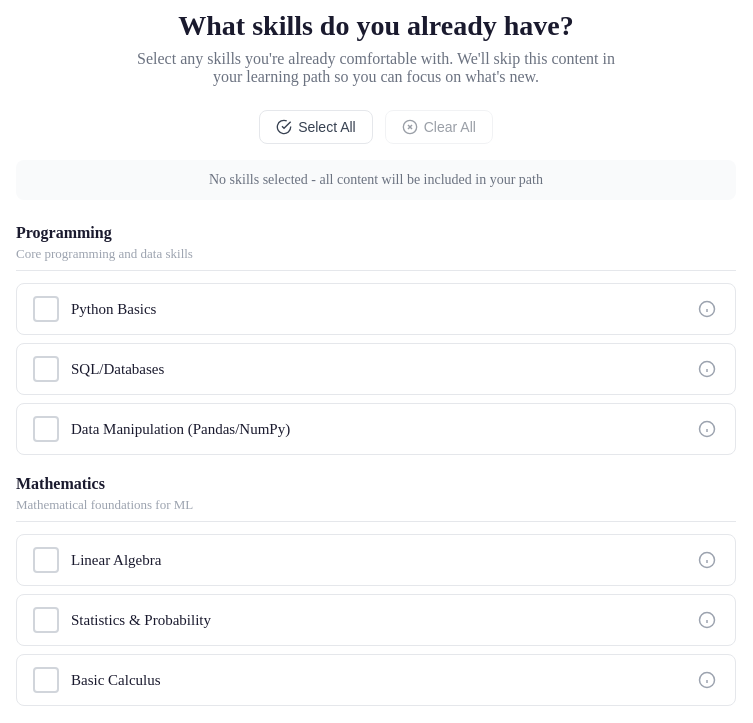
Test: Step4ExistingSkills › Select All selects all skills › should select all skills when Select All is clicked
Step 1. Click the button with test id "select-all-btn" → (316, 127), box [259, 110, 373, 144]
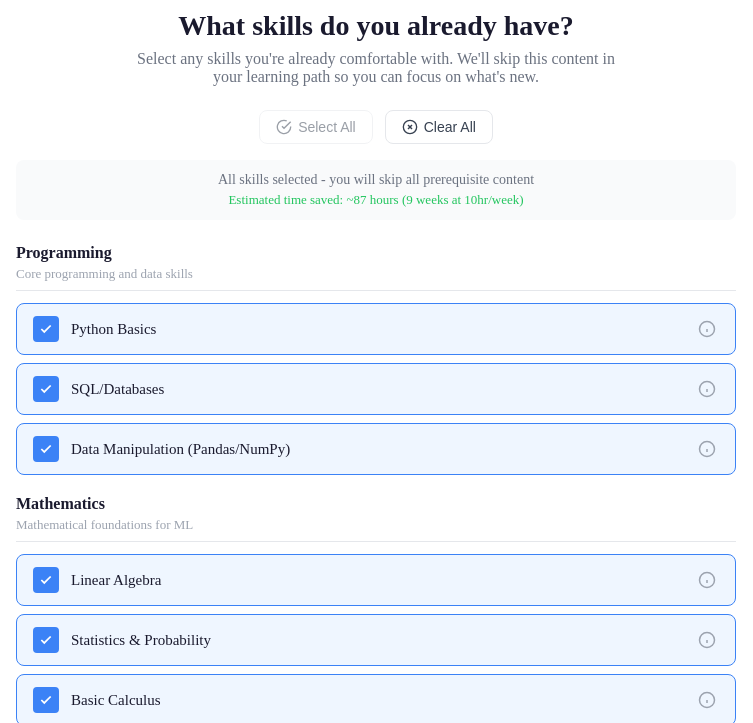
Result: the checkbox with test id "skill-checkbox-python-basics" is checked at [33, 316, 719, 342]
Result: the checkbox with test id "skill-checkbox-linear-algebra" is checked at [33, 567, 719, 593]
Result: the checkbox with test id "skill-checkbox-statistics-probability" is checked at [33, 627, 719, 653]
